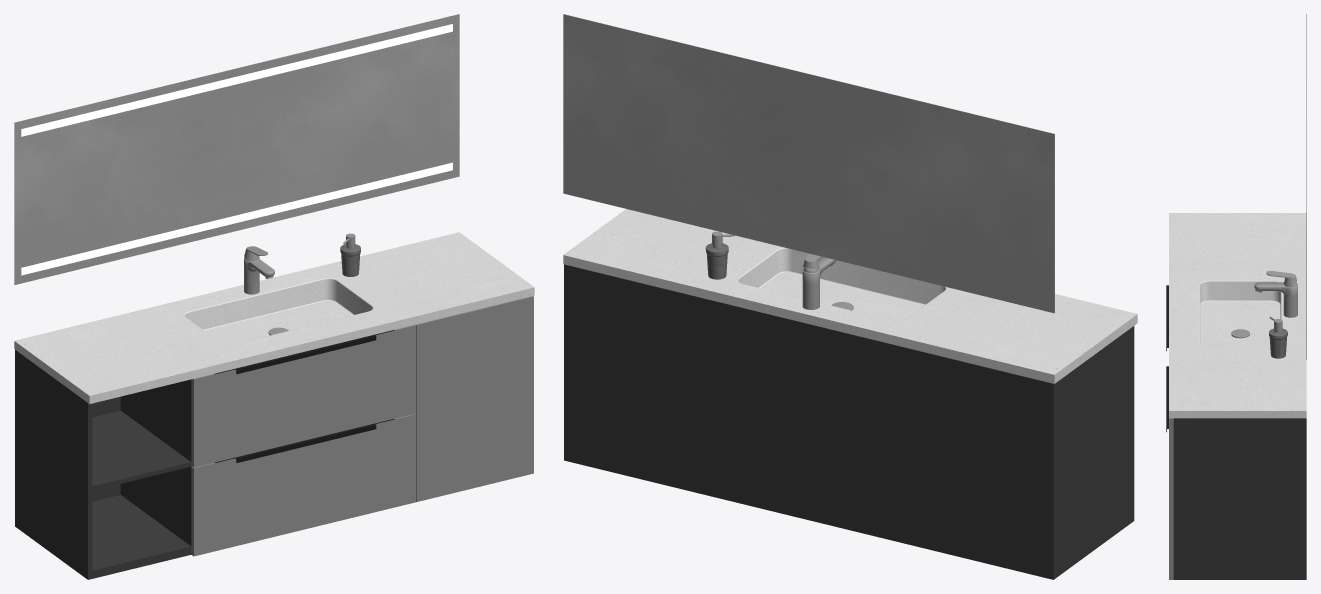
3 views of the same model, side by side, from view 1: azimuth 30°, elevation 25°; view 2: azimuth 150°, elevation 25°; view 3: azimuth 270°, elevation 25° (orthographic). The views are drawn at different scales.
Visible parts, largest first — view 1: mirror, bathroom table.006, bathroom table.002, bathroom table, bathroom table.001, bathroom table.005, bathroom table.007, bathroom table.003, Cube, Cube.001, sink, soap; view 2: bathroom table, mirror, bathroom table.006, sink, soap; view 3: bathroom table.006, bathroom table, sink, bathroom table.002, soap, mirror.
Part boxes in pixels (x1=…): mirror: x1=14, y1=14, x2=459, y2=284; bathroom table.006: x1=14, y1=232, x2=534, y2=403; bathroom table.002: x1=415, y1=296, x2=533, y2=501; bathroom table: x1=15, y1=350, x2=191, y2=579; bathroom table.001: x1=191, y1=413, x2=415, y2=556; bathroom table.005: x1=191, y1=324, x2=415, y2=467; bathroom table.007: x1=120, y1=379, x2=191, y2=545; bathroom table.003: x1=92, y1=410, x2=191, y2=490; Cube: x1=215, y1=418, x2=394, y2=462; Cube.001: x1=215, y1=330, x2=394, y2=374; sink: x1=244, y1=246, x2=274, y2=294; soap: x1=340, y1=233, x2=360, y2=276; bathroom table: x1=564, y1=264, x2=1134, y2=579; mirror: x1=563, y1=14, x2=1054, y2=313; bathroom table.006: x1=563, y1=209, x2=1137, y2=383; sink: x1=802, y1=254, x2=836, y2=309; soap: x1=705, y1=231, x2=734, y2=279; bathroom table.006: x1=1169, y1=213, x2=1306, y2=418; bathroom table: x1=1173, y1=418, x2=1306, y2=579; sink: x1=1254, y1=271, x2=1297, y2=317; bathroom table.002: x1=1169, y1=418, x2=1173, y2=579; soap: x1=1269, y1=316, x2=1287, y2=358; mirror: x1=1306, y1=14, x2=1306, y2=359.
Size of the model in its own units: 1.7 by 1.48 by 0.5095.
Materials: 1 (1 with a texture image).
